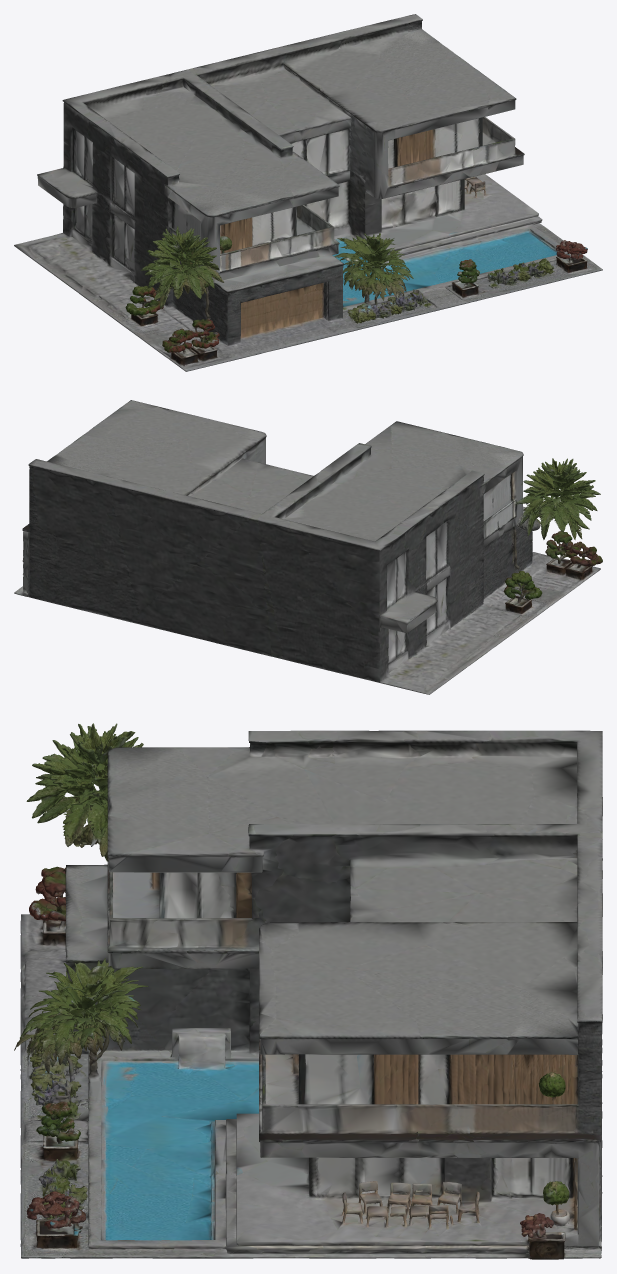
The model's file is biet-thu-sang-trong.glb.
The picture shows the model from 3 angles, top to bottom: view 1: azimuth 30°, elevation 25°; view 2: azimuth 150°, elevation 25°; view 3: azimuth 270°, elevation 25°; orthographic projection. The views are drawn at different scales.
Parts seen in each view (by area): view 1: mesh_node; view 2: mesh_node; view 3: mesh_node.
Part boxes in pixels (x1=…): mesh_node: x1=14, y1=14, x2=602, y2=371; mesh_node: x1=14, y1=400, x2=602, y2=694; mesh_node: x1=14, y1=723, x2=602, y2=1259.
Bounding box in the file's own units: 42 × 12.23 × 28.88.
1 material, 1 textured.
